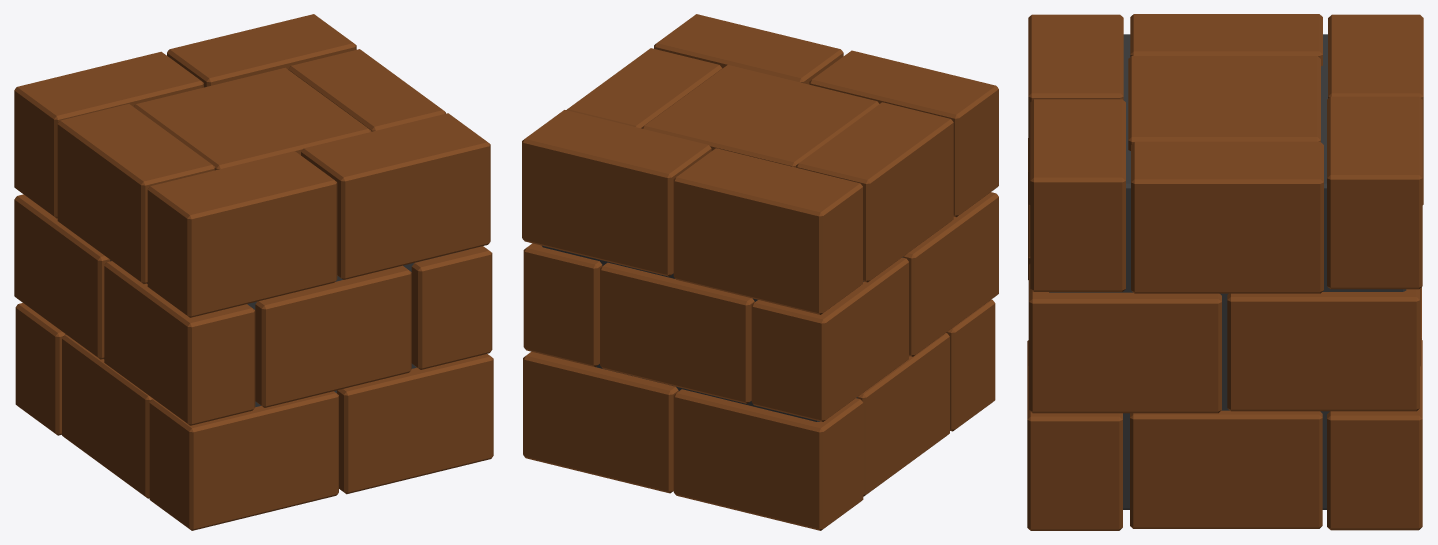
The model's file is Block.fbx.
3 renders of one model, left to right at view 1: azimuth 30°, elevation 25°; view 2: azimuth 150°, elevation 25°; view 3: azimuth 270°, elevation 25°, orthographic. The views are drawn at different scales.
Parts seen in each view (by area): view 1: Cube.002; view 2: Cube.002; view 3: Cube.002.
Part boxes in pixels (x1=…): Cube.002: x1=14, y1=14, x2=493, y2=530; Cube.002: x1=522, y1=14, x2=998, y2=530; Cube.002: x1=1027, y1=14, x2=1423, y2=530.
Bounding box in the file's own units: 168 × 168 × 169.
